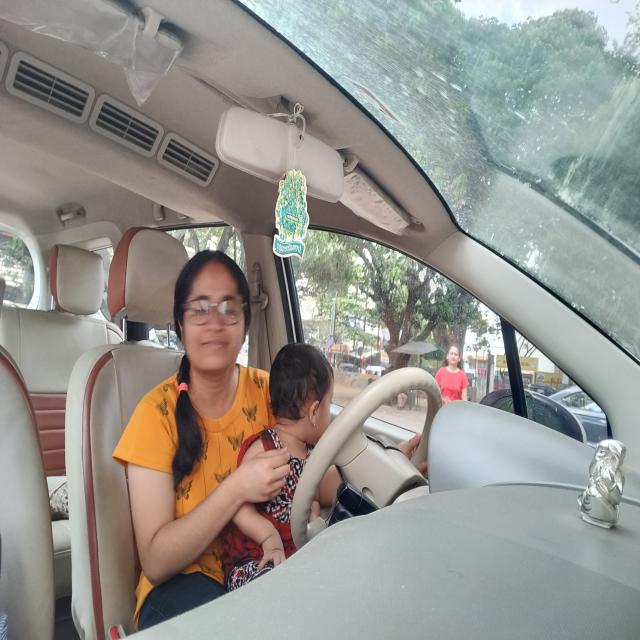child: (267, 342, 333, 441)
person: (173, 246, 254, 376)
